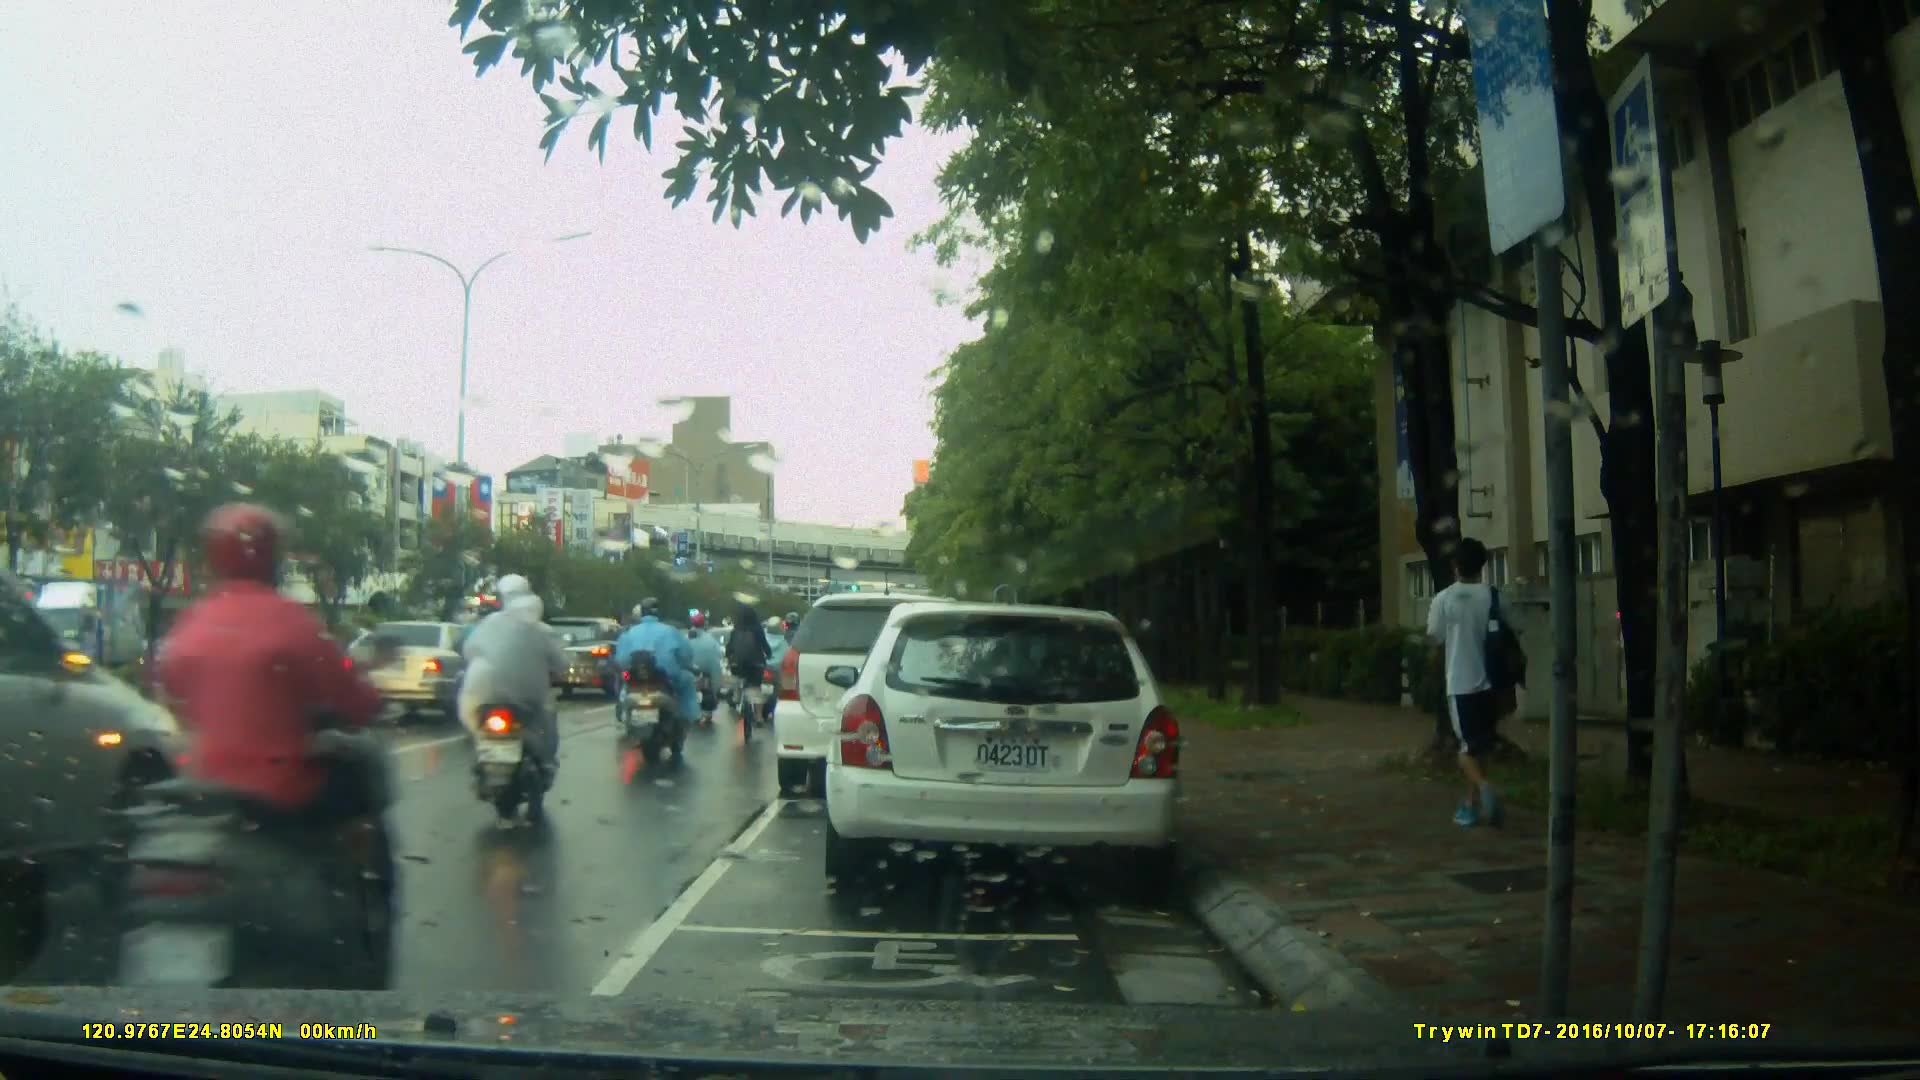pedestrian: (1431, 519, 1540, 864)
rider: (130, 488, 364, 1000), (463, 578, 571, 830), (625, 602, 701, 764), (450, 604, 507, 751), (727, 603, 777, 759), (673, 606, 727, 719), (719, 614, 764, 710), (752, 619, 792, 717)
vehicle: (822, 604, 1188, 882), (774, 595, 995, 802), (335, 618, 502, 726), (529, 616, 647, 704), (144, 630, 241, 686)
